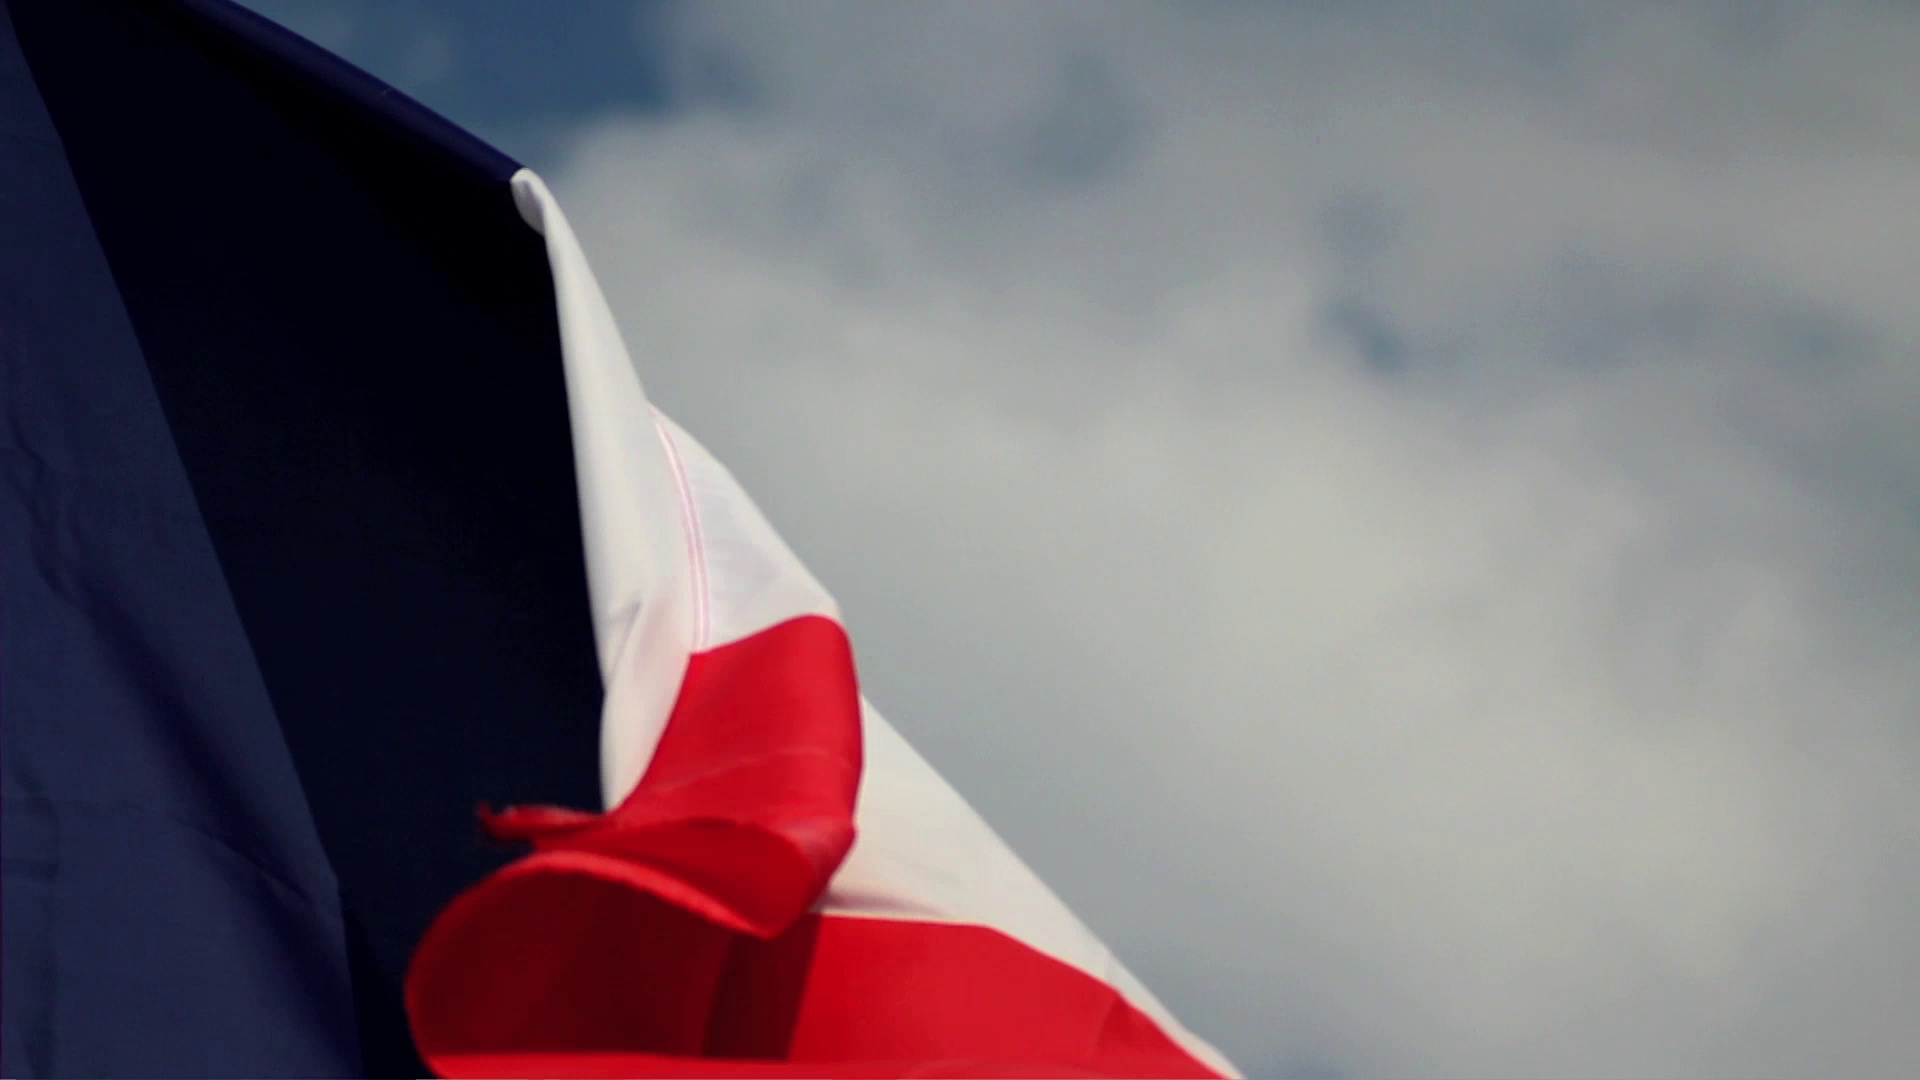French Flag: (1, 1, 1246, 1080)
